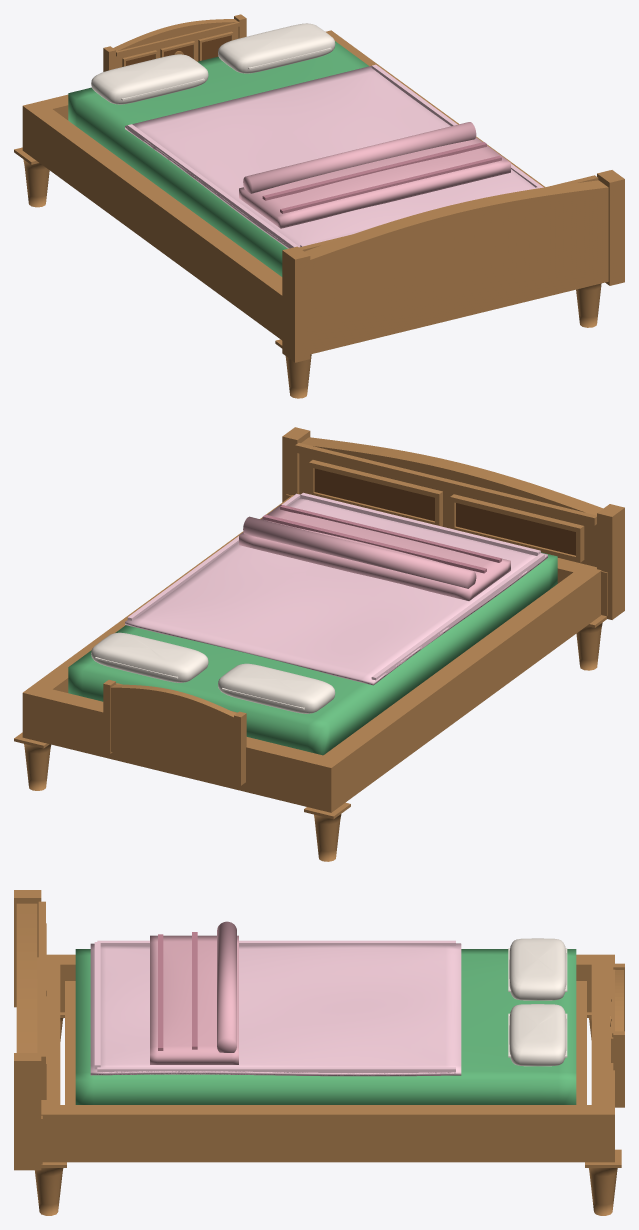
3 views of the same model, one above another, from view 1: azimuth 30°, elevation 25°; view 2: azimuth 150°, elevation 25°; view 3: azimuth 270°, elevation 25° (orthographic). The views are drawn at different scales.
Parts seen in each view (by area): view 1: decorative_footboard, light_pink_blanket, wooden_bed_frame_base, folded_comforter, green_mattress, pillow, decorative_headboard, tapered_leg; view 2: light_pink_blanket, wooden_bed_frame_base, decorative_footboard, green_mattress, folded_comforter, decorative_headboard, pillow, tapered_leg; view 3: wooden_bed_frame_base, light_pink_blanket, green_mattress, folded_comforter, decorative_footboard, pillow, tapered_leg, decorative_headboard.
Part boxes in pixels (x1,y1,x2,y2): decorative_footboard: (282,170,624,362); light_pink_blanket: (125,64,543,248); wooden_bed_frame_base: (14,30,545,348); folded_comforter: (239,122,510,228); green_mattress: (68,41,368,276); pillow: (91,23,335,104); decorative_headboard: (103,14,246,71); tapered_leg: (23,159,601,398); light_pink_blanket: (125,492,547,685); wooden_bed_frame_base: (14,495,606,819); decorative_footboard: (282,427,624,619); green_mattress: (68,552,557,755); folded_comforter: (239,504,510,600); decorative_headboard: (103,680,246,785); pillow: (91,632,335,713); tapered_leg: (24,622,602,861); wooden_bed_frame_base: (37,954,621,1167); light_pink_blanket: (90,940,461,1076); green_mattress: (75,949,576,1104); folded_comforter: (150,921,238,1064); decorative_footboard: (14,890,46,1170); pillow: (508,938,567,1066); tapered_leg: (35,1018,617,1215); decorative_headboard: (610,963,624,1107).
Size of the model in its own units: 6.09 by 2.78 by 9.2.
